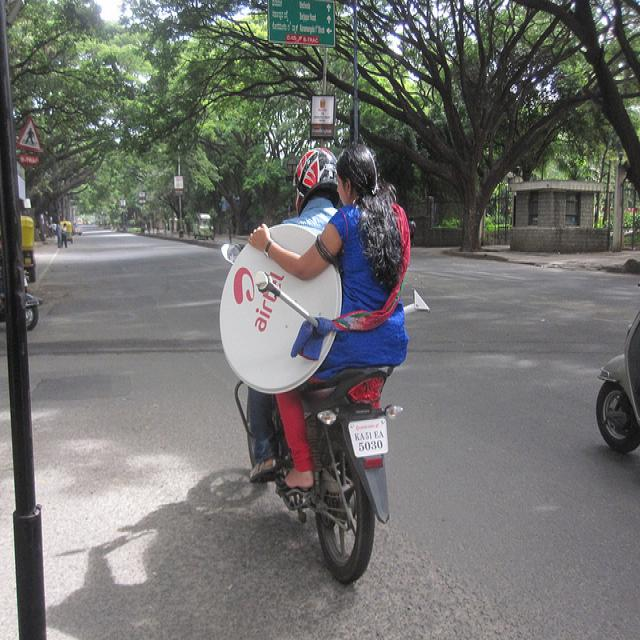motor: (299, 364, 395, 592), (595, 311, 640, 453), (0, 286, 42, 332)
